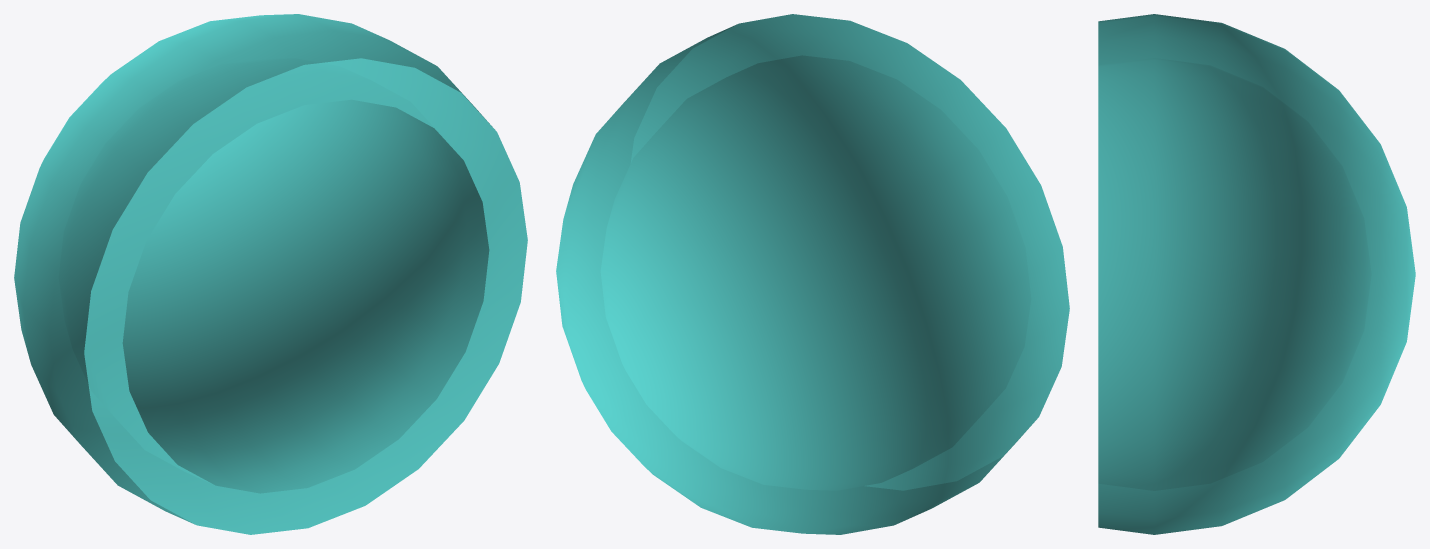
File: model_align.obj
3 views of the same model, side by side, from view 1: azimuth 30°, elevation 25°; view 2: azimuth 150°, elevation 25°; view 3: azimuth 270°, elevation 25° (orthographic).
Visible parts, largest first — view 1: mesh1_mesh1-geometry; view 2: mesh1_mesh1-geometry; view 3: mesh1_mesh1-geometry.
Boxes of the visible parts, <box> form: mesh1_mesh1-geometry: <box>14,14,527,534</box>; mesh1_mesh1-geometry: <box>556,14,1069,534</box>; mesh1_mesh1-geometry: <box>1098,14,1415,534</box>.
Bounding box in the file's own units: 0.1403 × 0.1403 × 0.0852.
